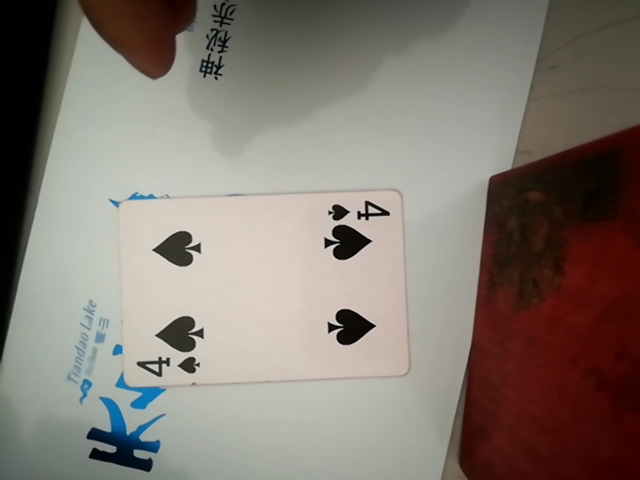ht 4: (108, 185, 414, 391)
